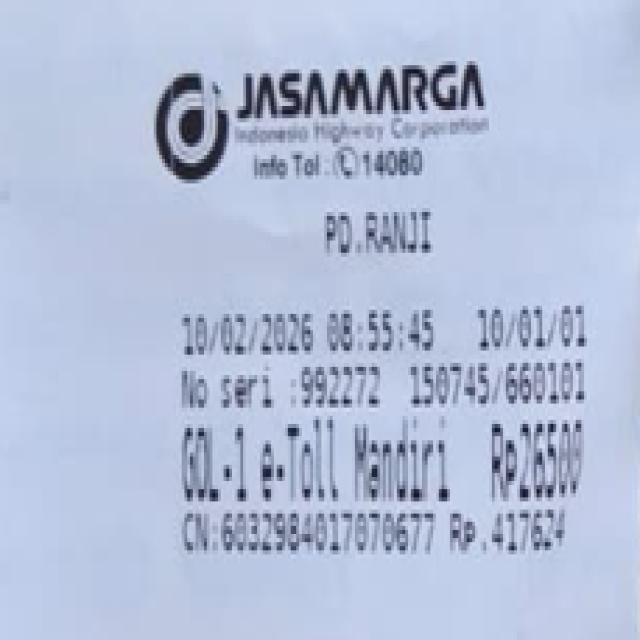date: (172, 310, 447, 354)
store: (229, 64, 490, 151)
total: (477, 411, 596, 498)
